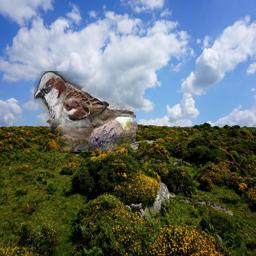Sparrow: (34, 71, 136, 152)
